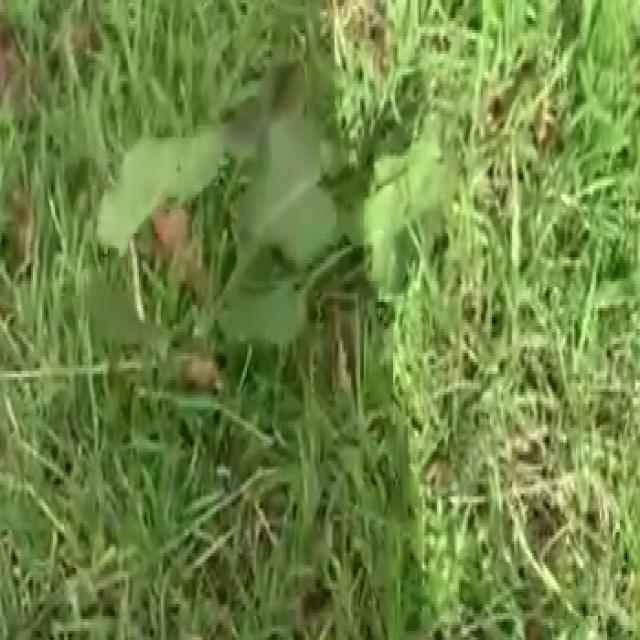organic waste: (93, 15, 494, 428)
